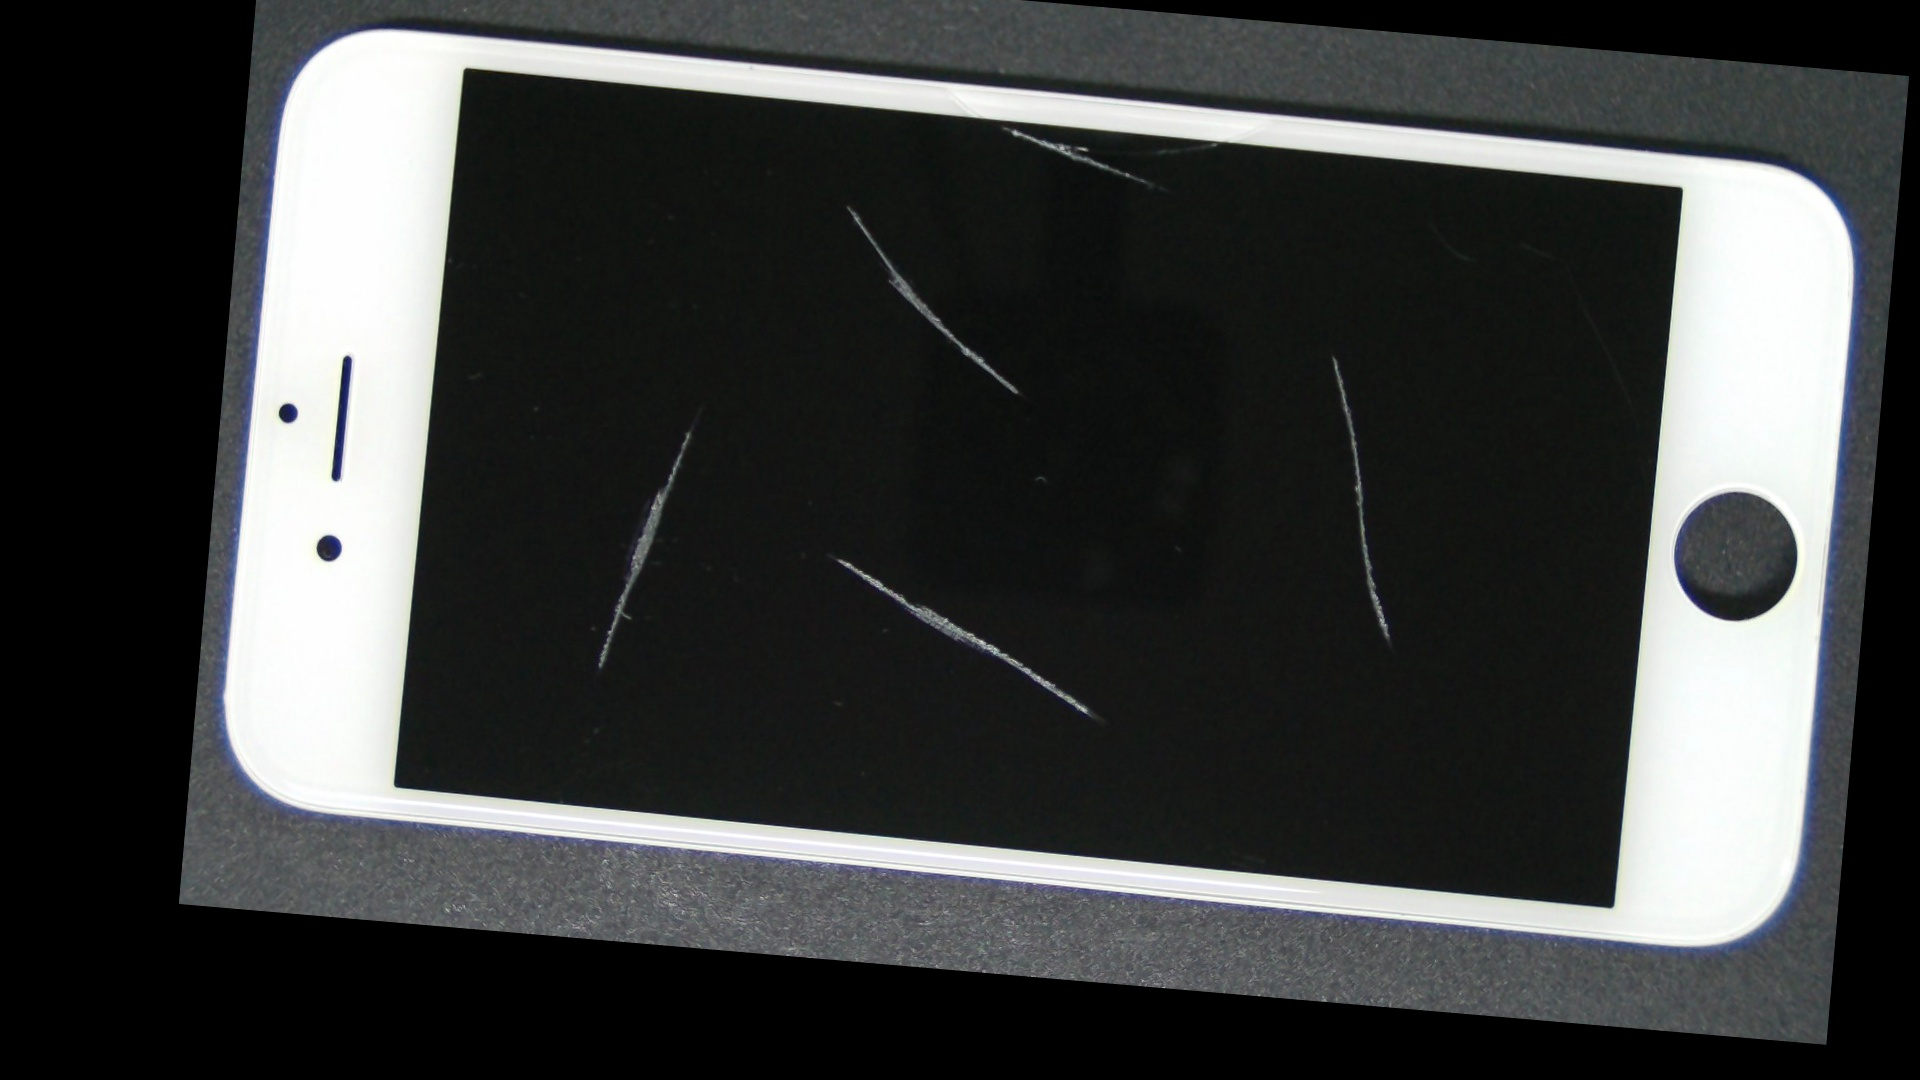oil: (769, 145, 1894, 567), (496, 244, 1166, 868), (436, 182, 940, 679), (535, 69, 1158, 340), (622, 30, 1386, 223)
